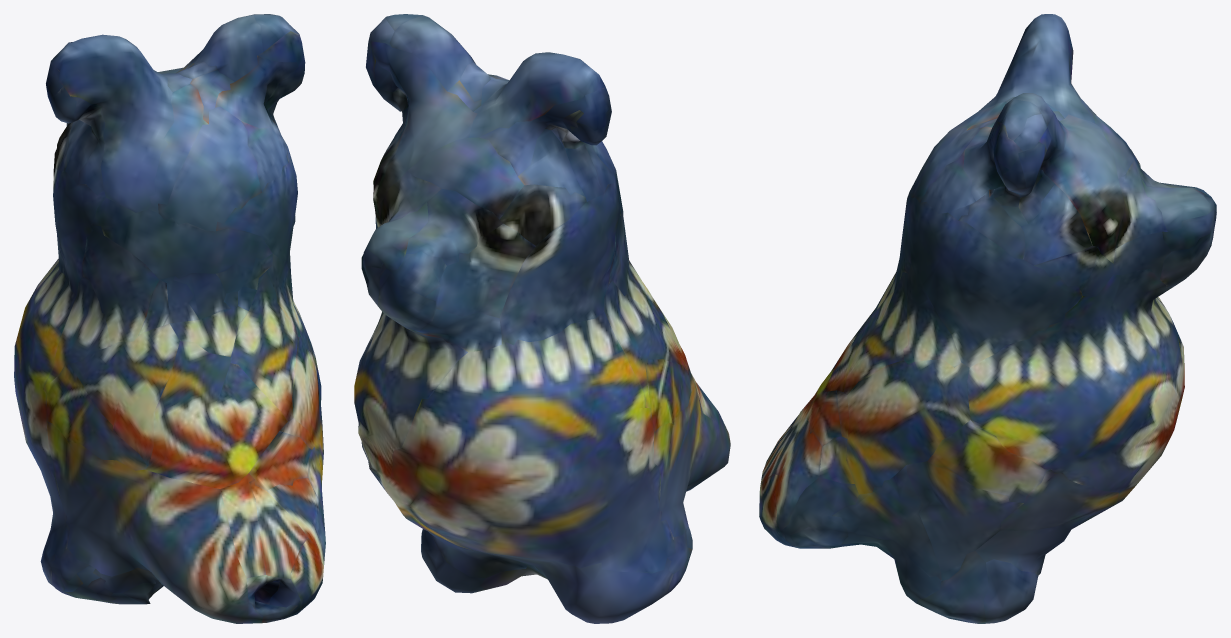
Rendered from hall.glb.
3 views of the same model, side by side, from view 1: azimuth 30°, elevation 25°; view 2: azimuth 150°, elevation 25°; view 3: azimuth 270°, elevation 25° (orthographic). The views are drawn at different scales.
Size of the model in its own units: 0.4159 by 0.8066 by 0.6229.
1 material, 1 textured.
